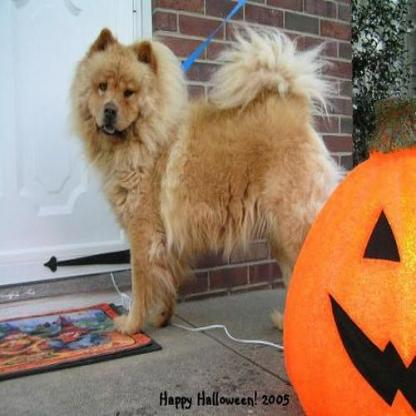chow: (63, 21, 354, 333)
